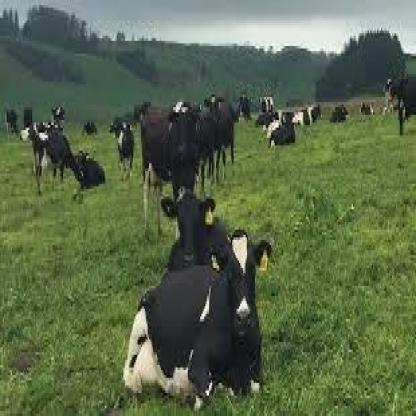cow: (123, 227, 273, 416), (140, 108, 201, 231), (160, 190, 236, 269), (204, 94, 235, 171), (34, 132, 75, 184), (109, 116, 135, 183), (74, 149, 106, 188), (269, 122, 296, 150), (292, 104, 321, 127), (328, 103, 350, 124), (134, 102, 152, 123), (260, 96, 274, 116), (82, 119, 98, 136), (359, 101, 374, 116)
